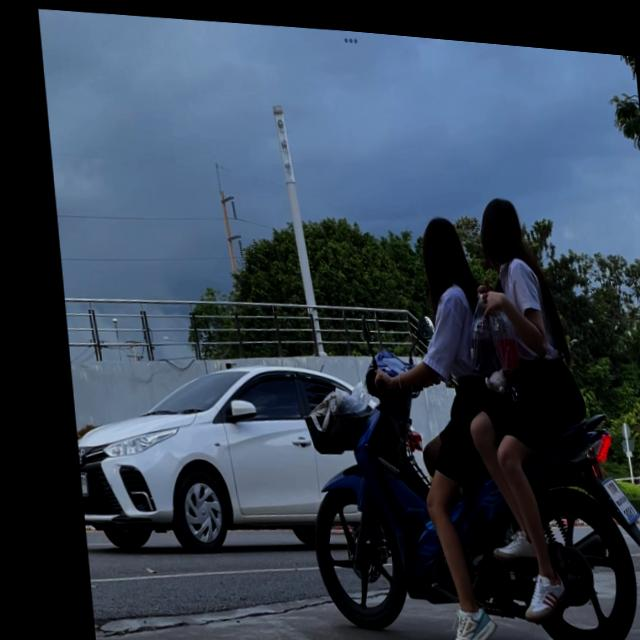seatbelt: (413, 205, 468, 284), (473, 183, 528, 260)
